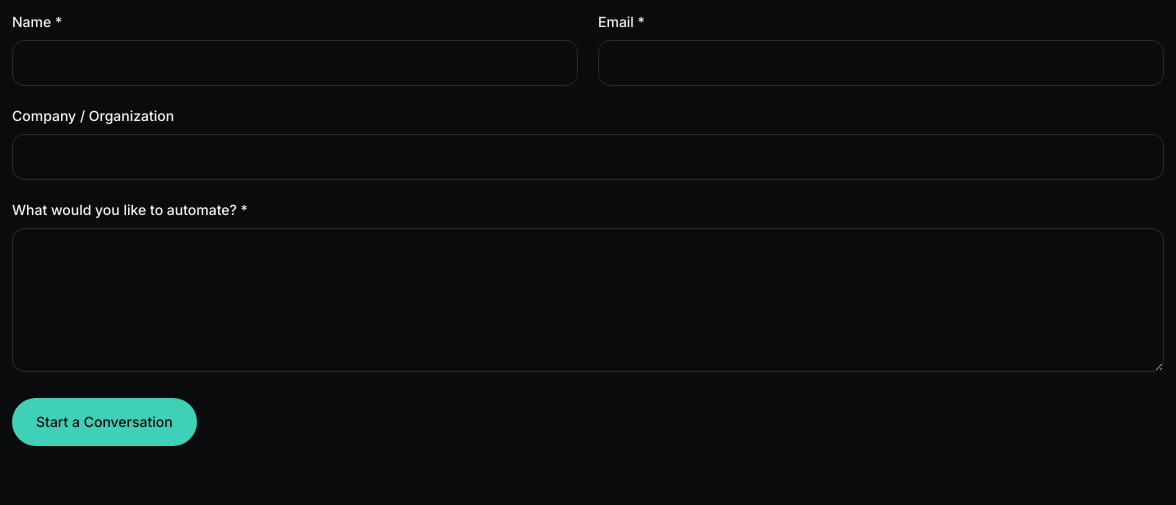
Test case: ContactForm › shows a server error message when submission fails
Type "Jordan Smith" into the field labelled "Name *" at [295, 63], box x1=12 y1=40 x2=578 y2=86
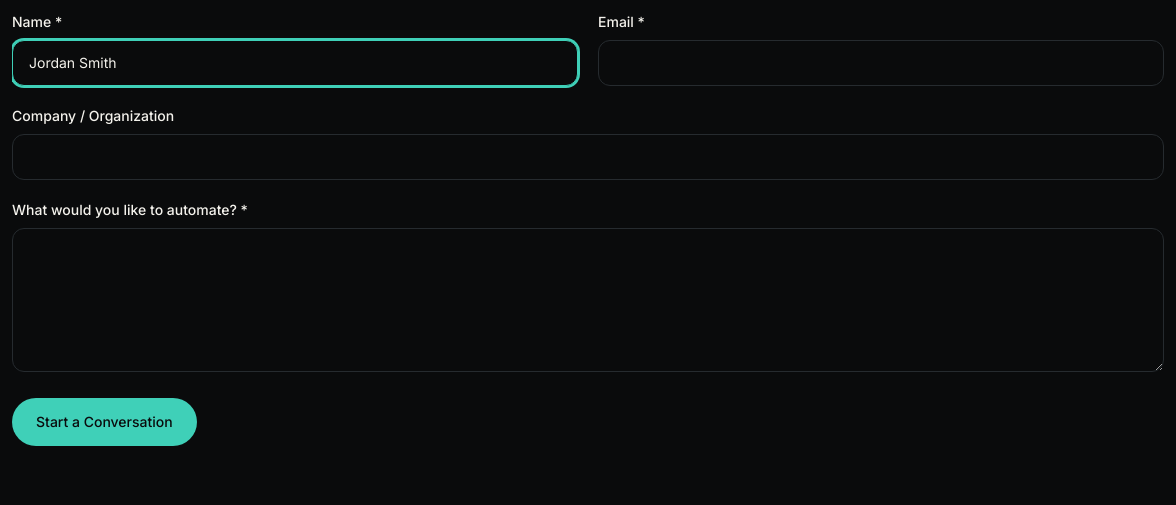
Type "jordan@example.com" into the field labelled "Email *" at [881, 63], box x1=598 y1=40 x2=1164 y2=86
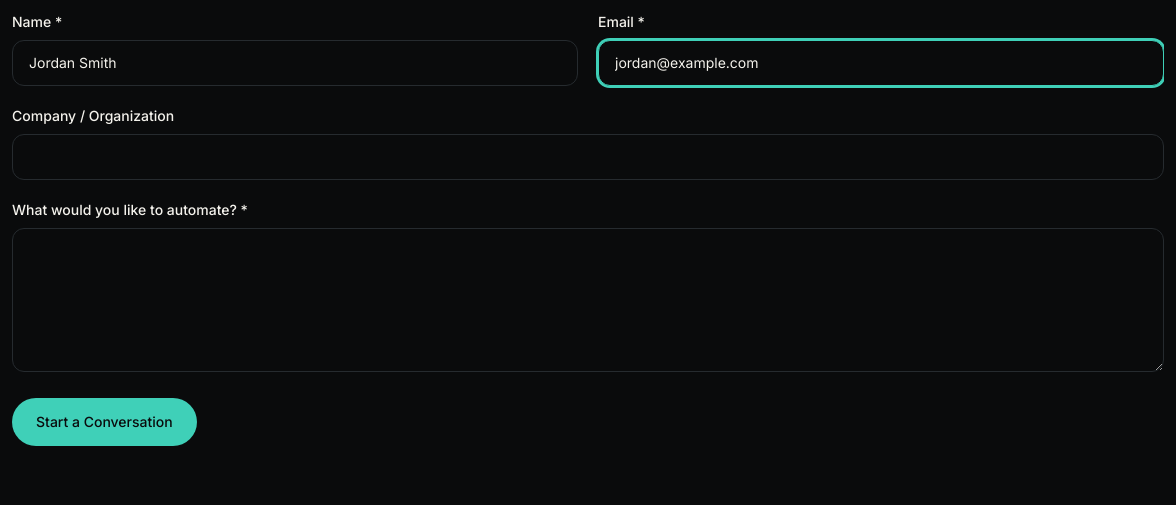
Type "We need help automating our lead routing workflow end to end." into the text box labelled "What would you like to automate? *" at [588, 300], box x1=12 y1=228 x2=1164 y2=372
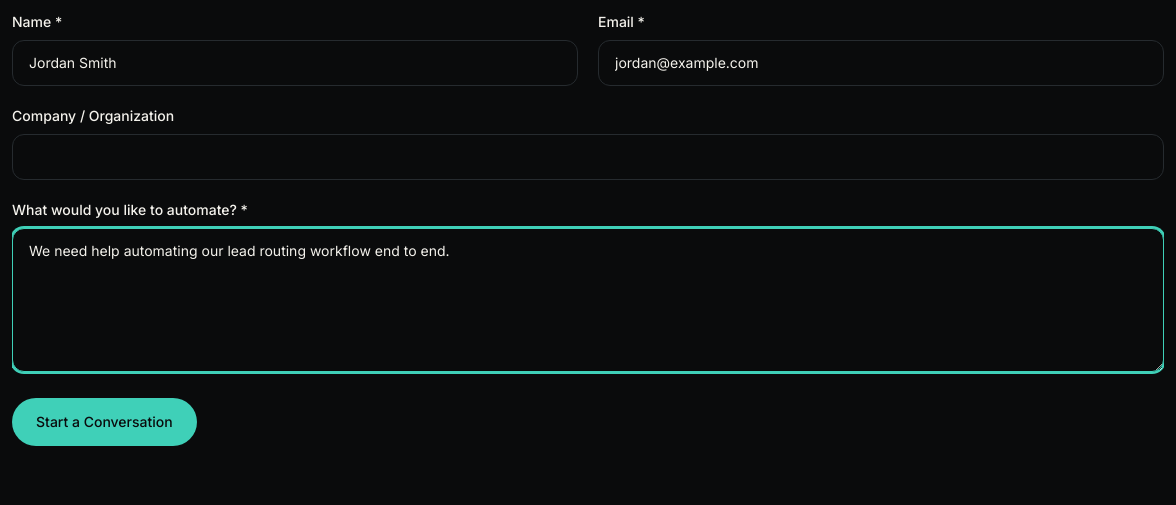
Click the button "Start a Conversation" at [104, 422], box x1=12 y1=398 x2=197 y2=446
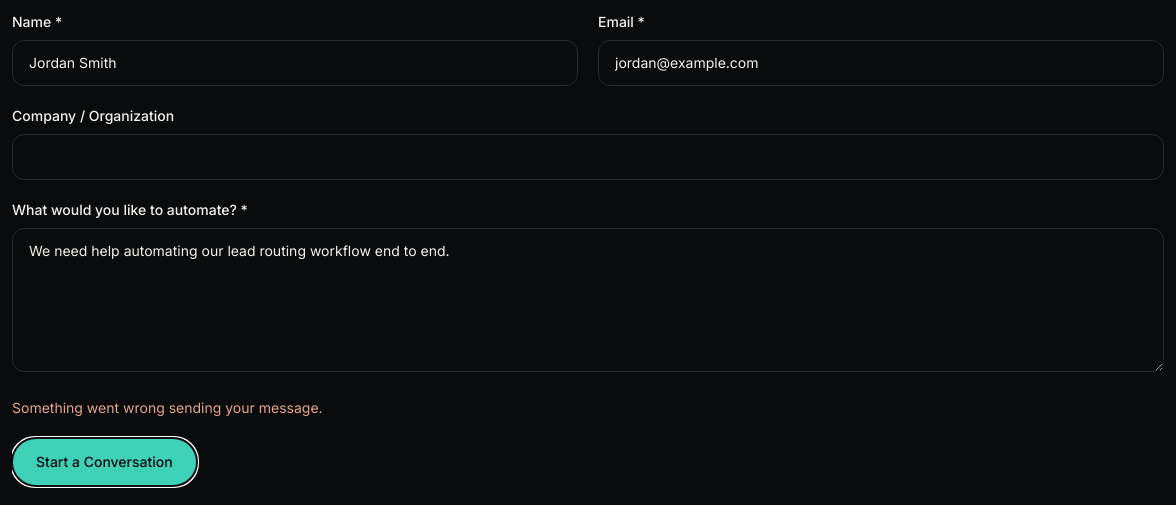
Expected: the text "Something went wrong sending your message." is shown, x1=12 y1=399 x2=323 y2=416
